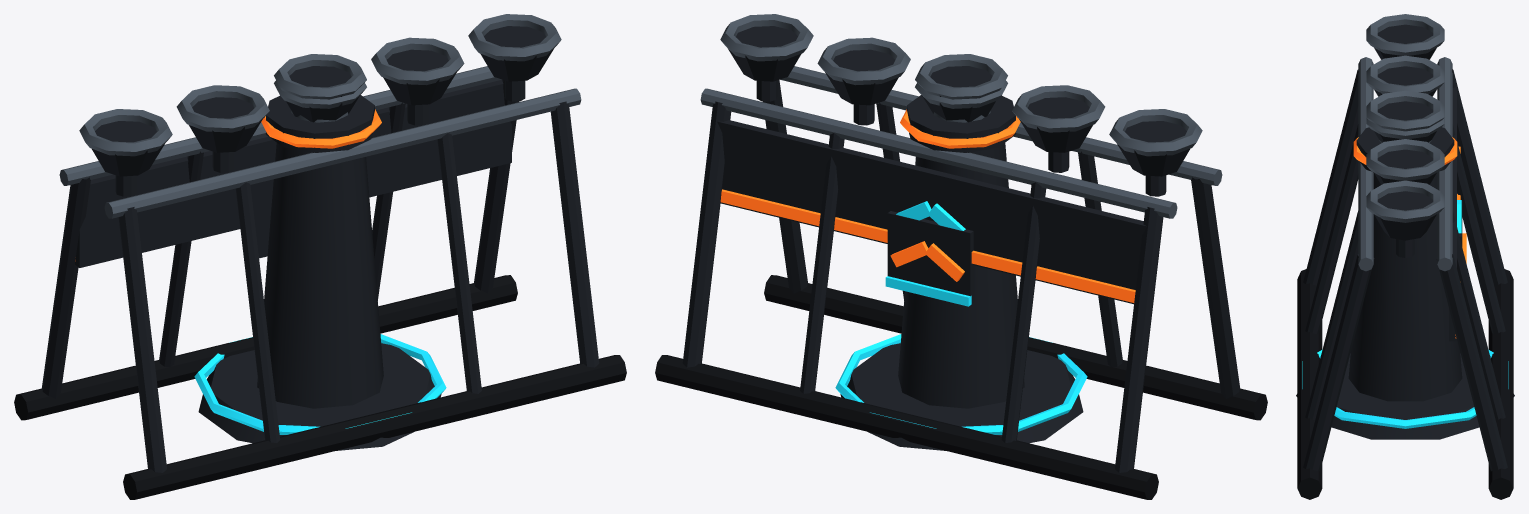
Rendered from contest-props.glb.
3 views of the same model, side by side, from view 1: azimuth 30°, elevation 25°; view 2: azimuth 150°, elevation 25°; view 3: azimuth 270°, elevation 25° (orthographic). The views are drawn at different scales.
Parts seen in each view (by area): view 1: Rack_LOD1, Pedestal_LOD1; view 2: Rack_LOD1, Pedestal_LOD1; view 3: Rack_LOD1, Pedestal_LOD1.
Boxes of the visible parts, <box> form: Rack_LOD1: <box>14,14,626,499</box>; Pedestal_LOD1: <box>194,54,446,450</box>; Rack_LOD1: <box>655,14,1267,499</box>; Pedestal_LOD1: <box>835,54,1087,450</box>; Rack_LOD1: <box>1297,14,1513,499</box>; Pedestal_LOD1: <box>1296,90,1514,439</box>.
Bounding box in the file's own units: 1.36 × 0.8755 × 0.6.
